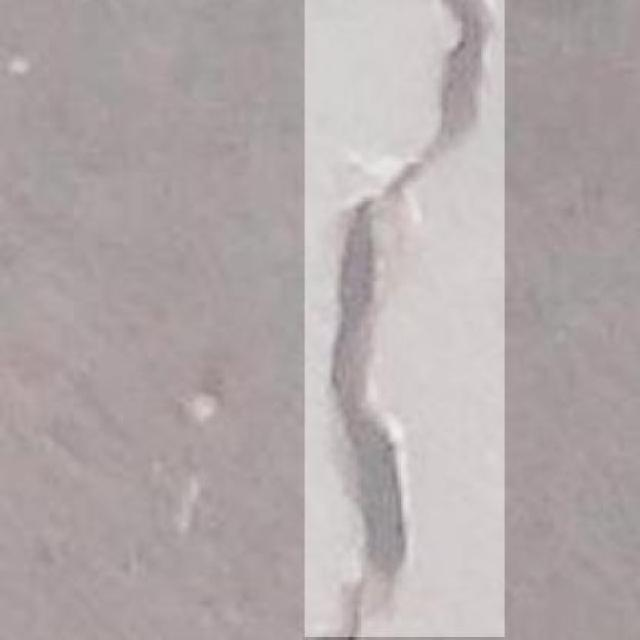Crack: (306, 0, 488, 635)
